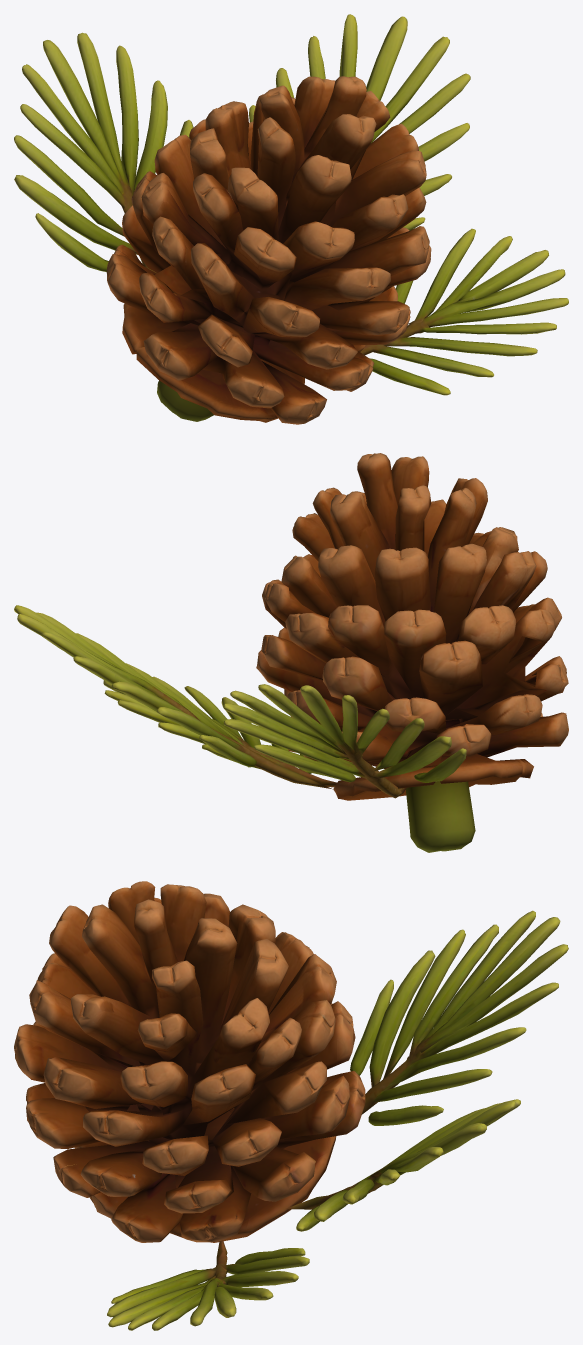
File: mem_ac_pinecone.fbx
3 views of the same model, one above another, from view 1: azimuth 30°, elevation 25°; view 2: azimuth 150°, elevation 25°; view 3: azimuth 270°, elevation 25° (orthographic). The views are drawn at different scales.
Parts seen in each view (by area): view 1: tripo_node_9a973fe3-8ea4-44eb-8c7a-471a2c087e7b; view 2: tripo_node_9a973fe3-8ea4-44eb-8c7a-471a2c087e7b; view 3: tripo_node_9a973fe3-8ea4-44eb-8c7a-471a2c087e7b.
Boxes of the visible parts, left/top/right/bottom form: tripo_node_9a973fe3-8ea4-44eb-8c7a-471a2c087e7b: left=14, top=14, right=568, bottom=424; tripo_node_9a973fe3-8ea4-44eb-8c7a-471a2c087e7b: left=14, top=453, right=568, bottom=852; tripo_node_9a973fe3-8ea4-44eb-8c7a-471a2c087e7b: left=14, top=881, right=568, bottom=1330.
Bounding box in the file's own units: 0.998 × 0.7441 × 0.9902.
1 material, 1 textured.
